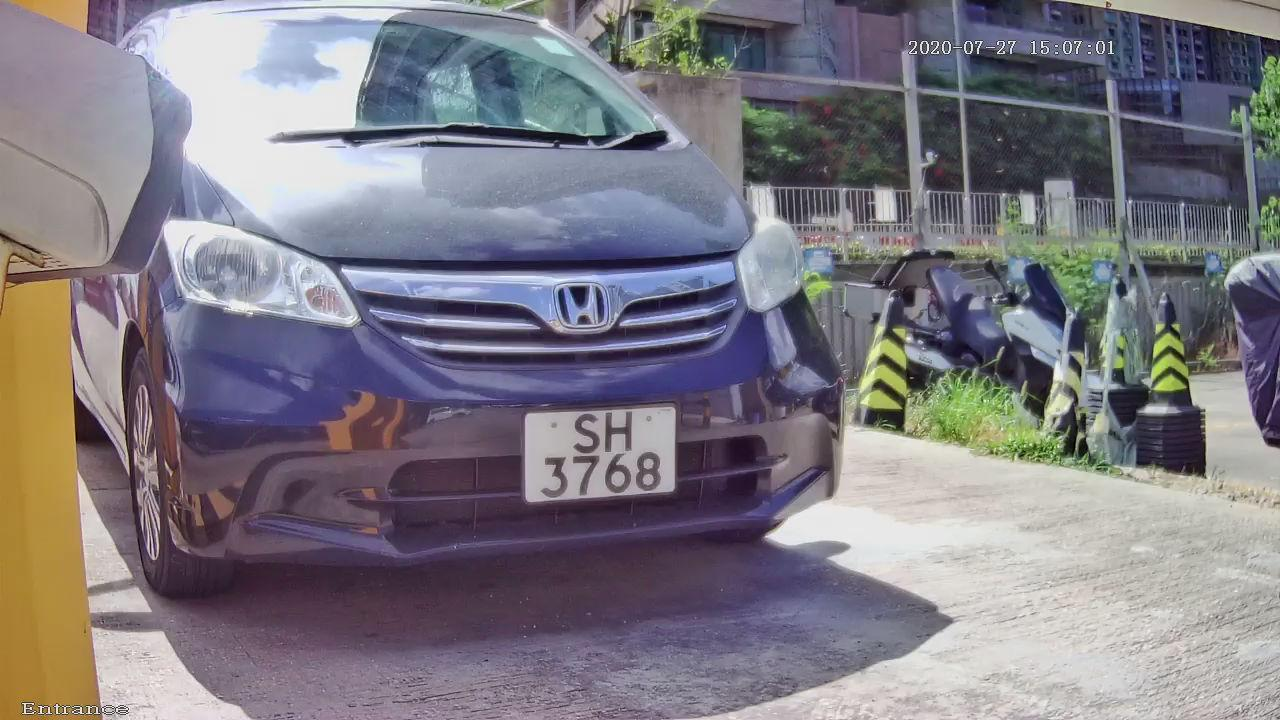privatecar: (29, 33, 915, 627)
